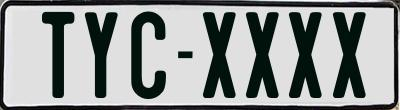C: (130, 9, 171, 103)
T: (40, 12, 73, 100)
X: (201, 10, 236, 102), (245, 10, 280, 96), (287, 9, 320, 98), (331, 12, 364, 101)
Y: (82, 10, 120, 96)
